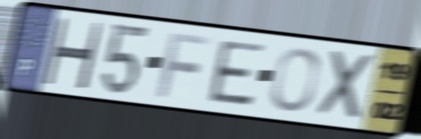5: (100, 20, 152, 96)
E: (207, 38, 268, 109)
F: (154, 29, 216, 101)
H: (40, 15, 106, 92)
O: (268, 45, 322, 114)
X: (315, 47, 379, 124)
